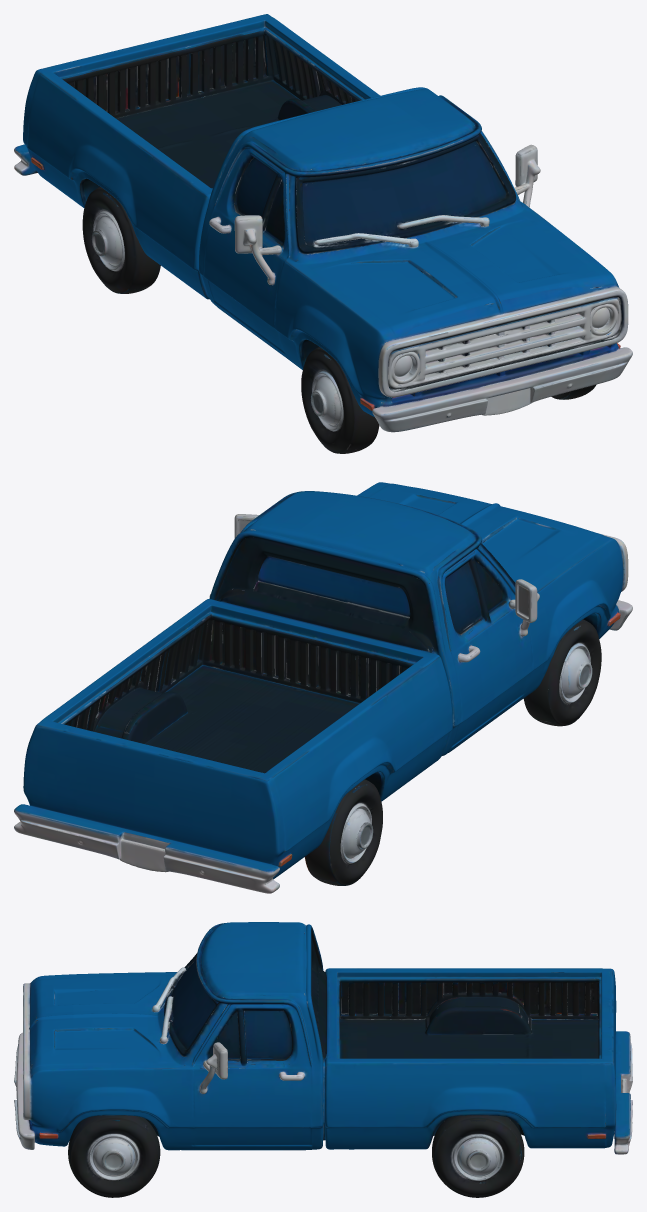
Rendered from dodge_HP.glb.
The picture shows the model from 3 angles, top to bottom: view 1: azimuth 30°, elevation 25°; view 2: azimuth 150°, elevation 25°; view 3: azimuth 270°, elevation 25°; orthographic projection. The views are drawn at different scales.
Parts seen in each view (by area): view 1: texture_pbr_v1.001; view 2: texture_pbr_v1.001; view 3: texture_pbr_v1.001.
Boxes of the visible parts, x1,y1,x2,y2 form: texture_pbr_v1.001: (14,14,632,453); texture_pbr_v1.001: (14,482,632,893); texture_pbr_v1.001: (14,922,632,1197).
Bounding box in the file's own units: 0.5229 × 0.3887 × 1.12.
1 material, 1 textured.
